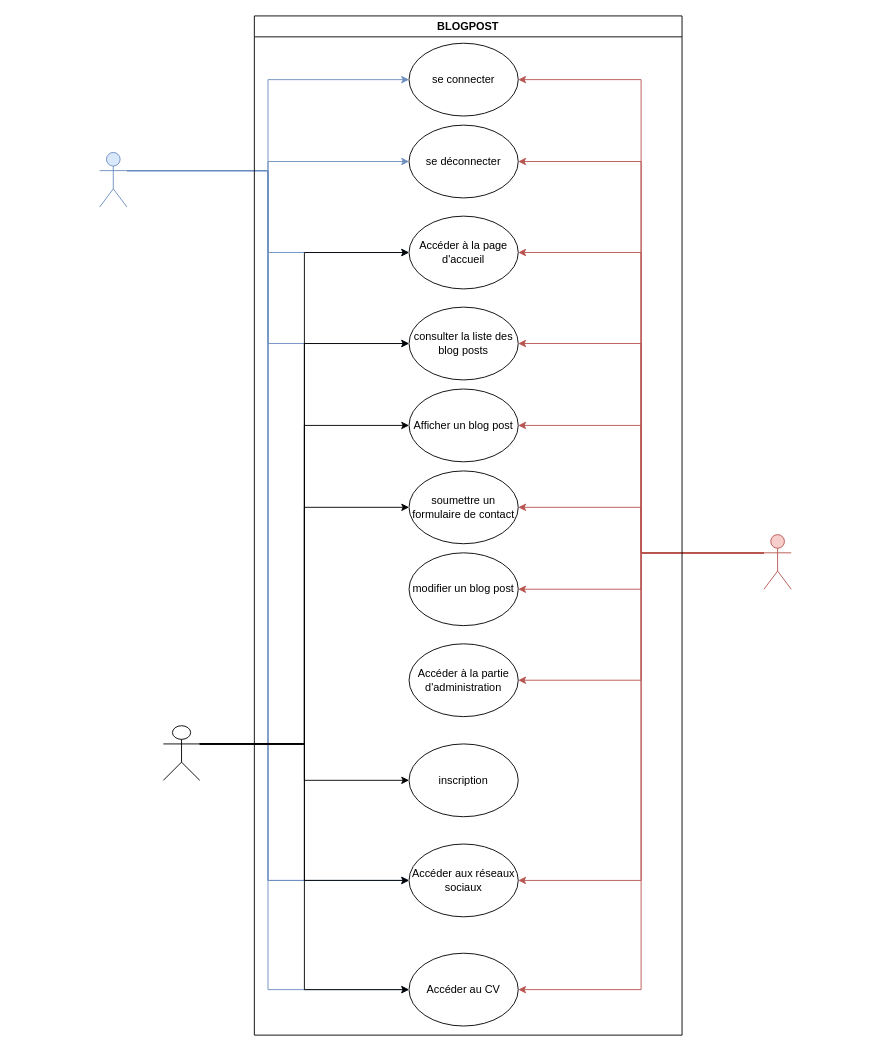
The diagram is 879 pixels wide and 1051 high, and some of its shapes have lost their labels. Here are the shapes that lost their labels. From the top down, the centre of each, then its label:
At pixel 113 179: "UTILISATEURS INSCRIT /NON VALIDE".
At pixel 777 561: "UTILISATEURS INSCRIT / VALIDE".
At pixel 181 752: "UTILISATEURS VISITEUR".
